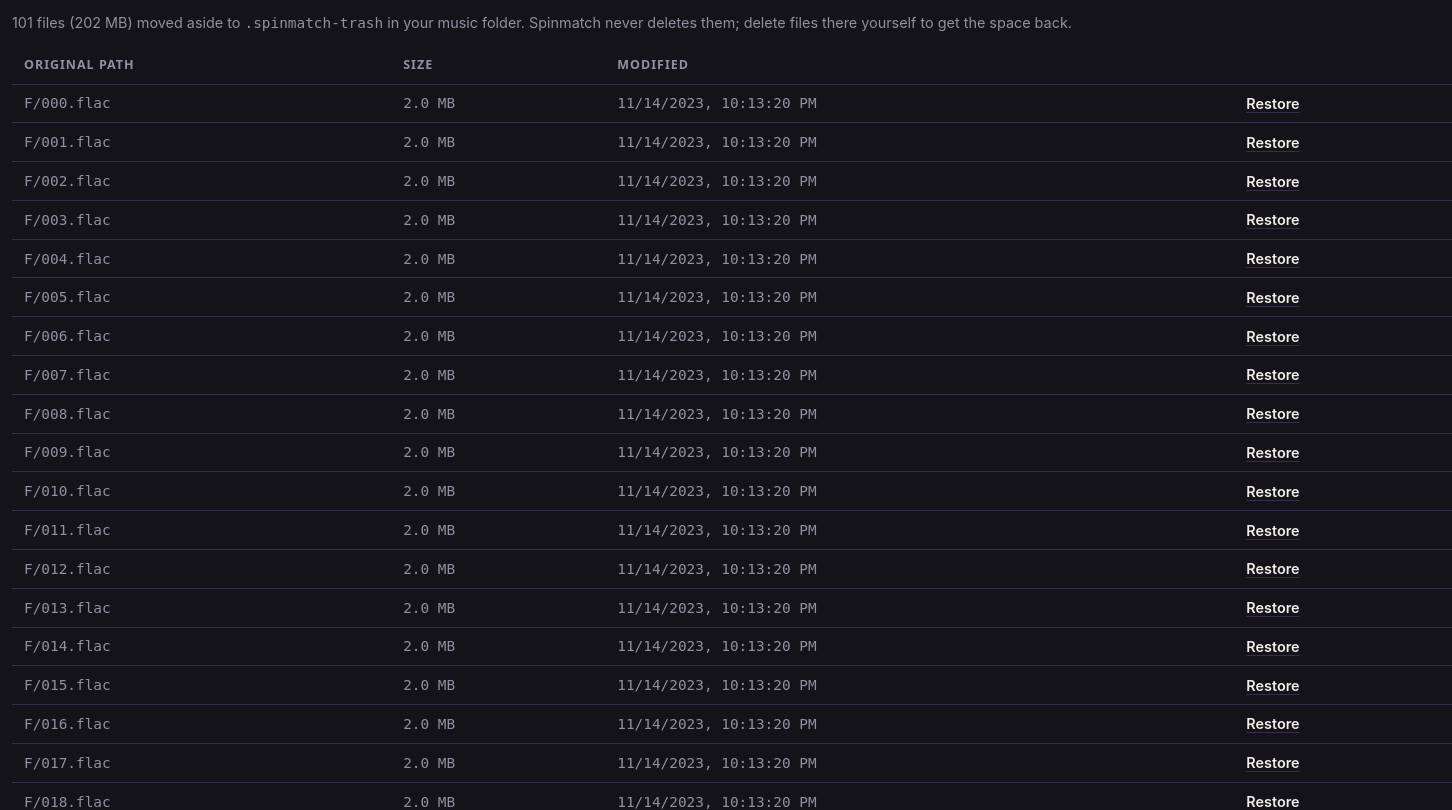
Test: TrashTab › keeps every remaining file reachable after a restore on page 1 of 2
Expected: the text "F/000.flac" is shown, [12, 84, 391, 123]
Click the button "Restore" in the row of "F/000.flac" at (1273, 104), box [1246, 95, 1300, 112]
(page scrolled)
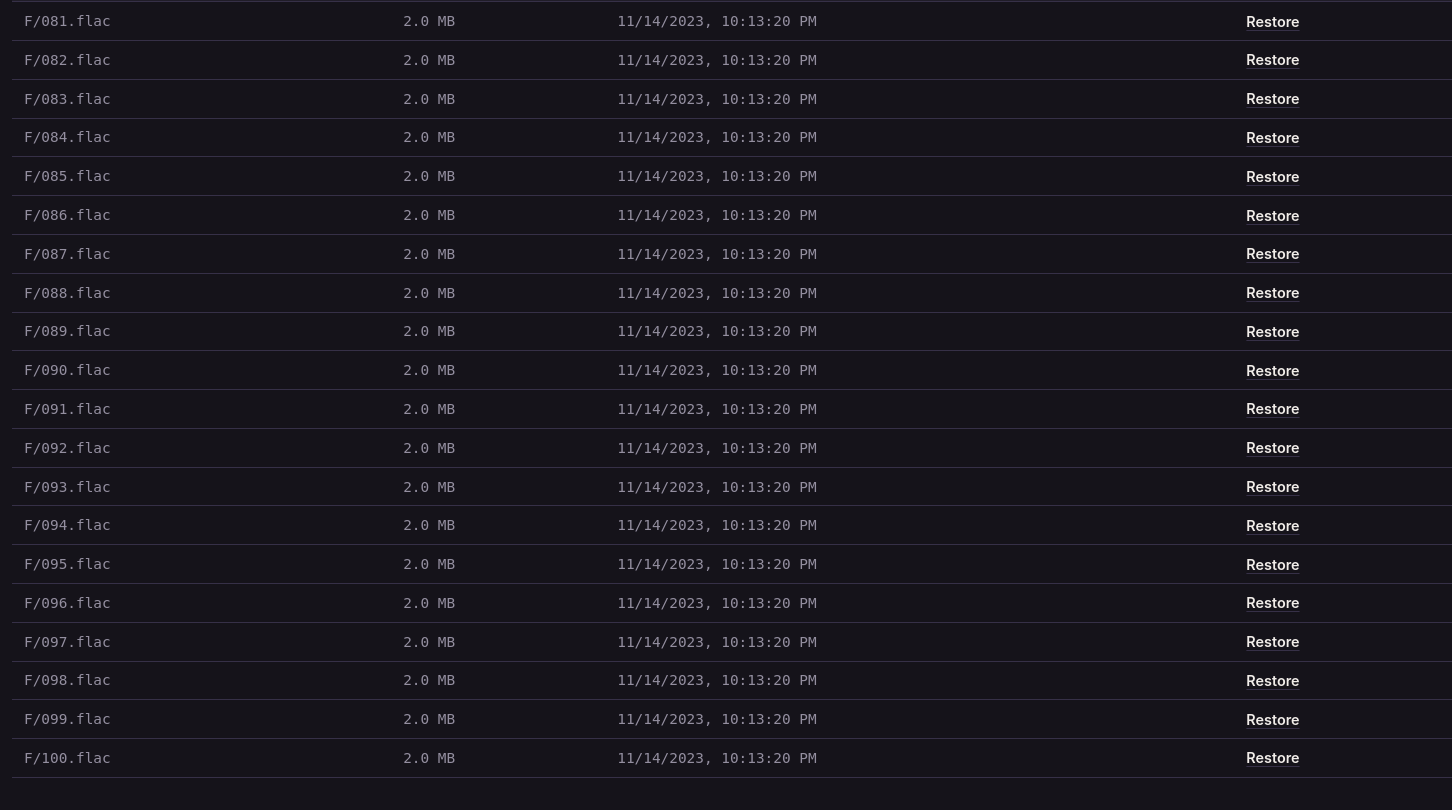
Expected: the text "F/100.flac" is shown, [12, 739, 391, 777]
